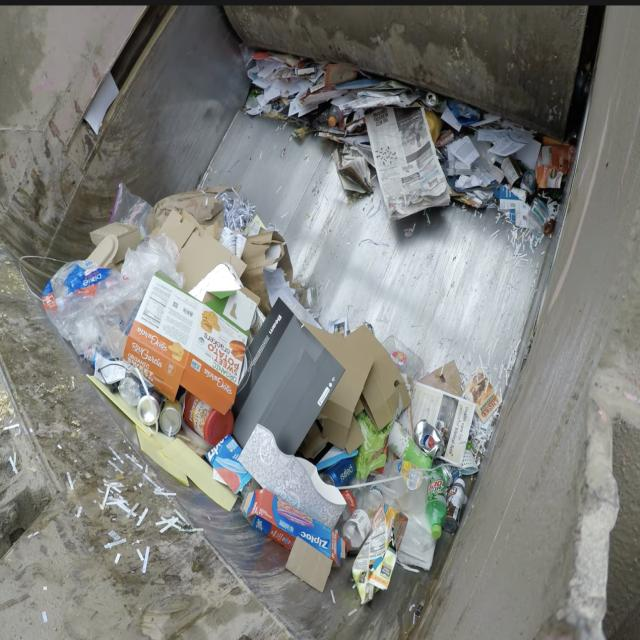cardboard: (109, 264, 331, 446), (116, 191, 330, 312)
metal: (406, 412, 450, 466)
paper: (260, 60, 553, 219), (231, 449, 439, 622)
